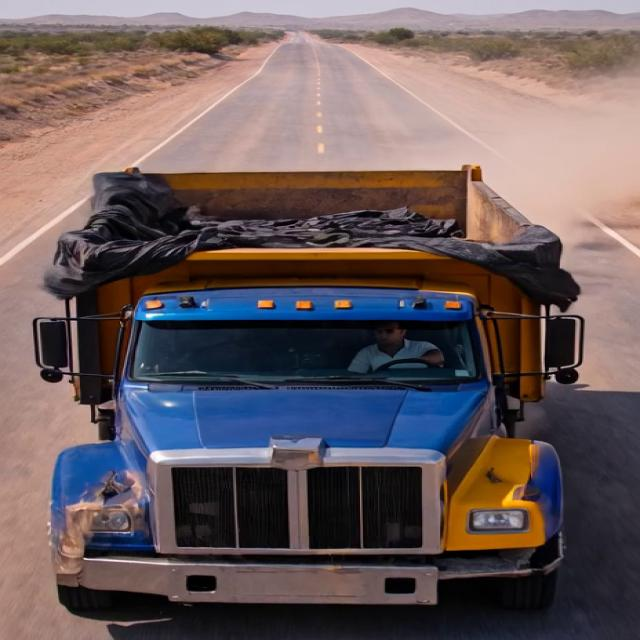Box: (41, 157, 596, 280)
Truck: (24, 124, 597, 612)
